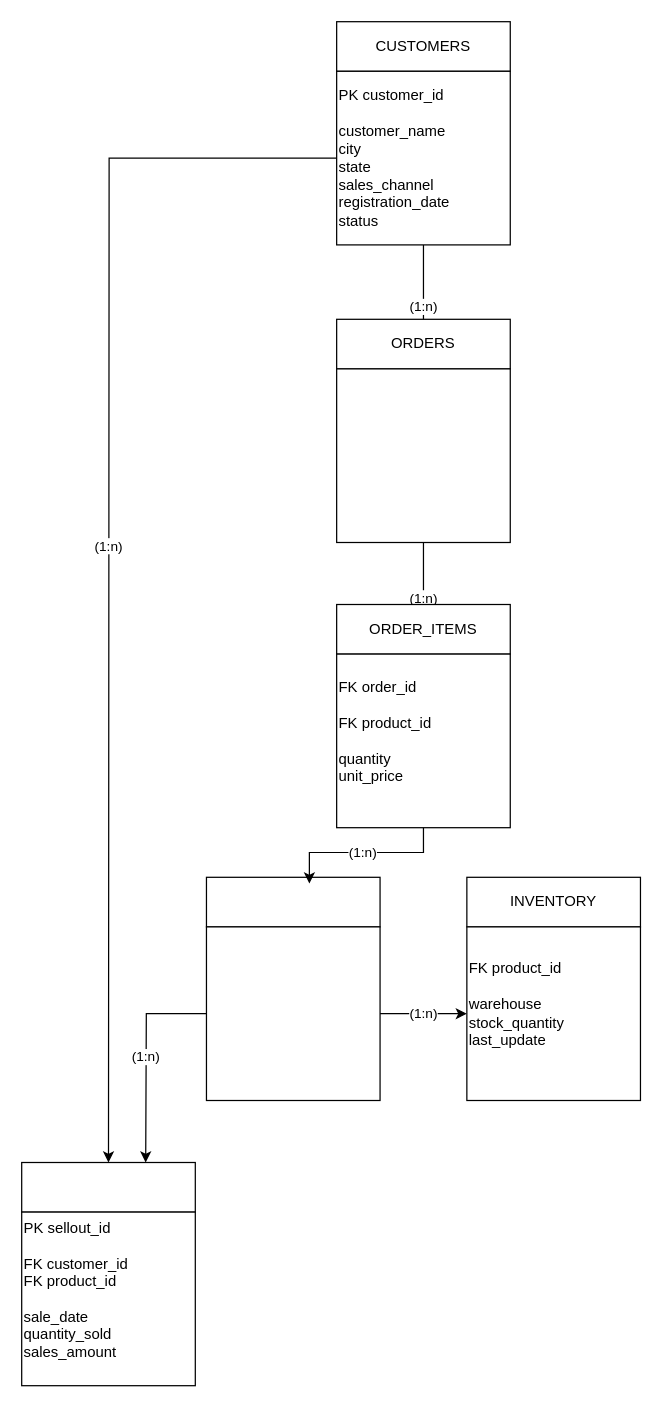
This 662x1419 diagram has some shape labels left out. Each missing label, with the centre of its shape:
PK order_id FK customer_id order_date order_status total_amount: point 422,455
PK product_id product_name brand category unit_price status: point 292,1013
PRODUCTS: point 292,901
SELLOUT: point 107,1186
